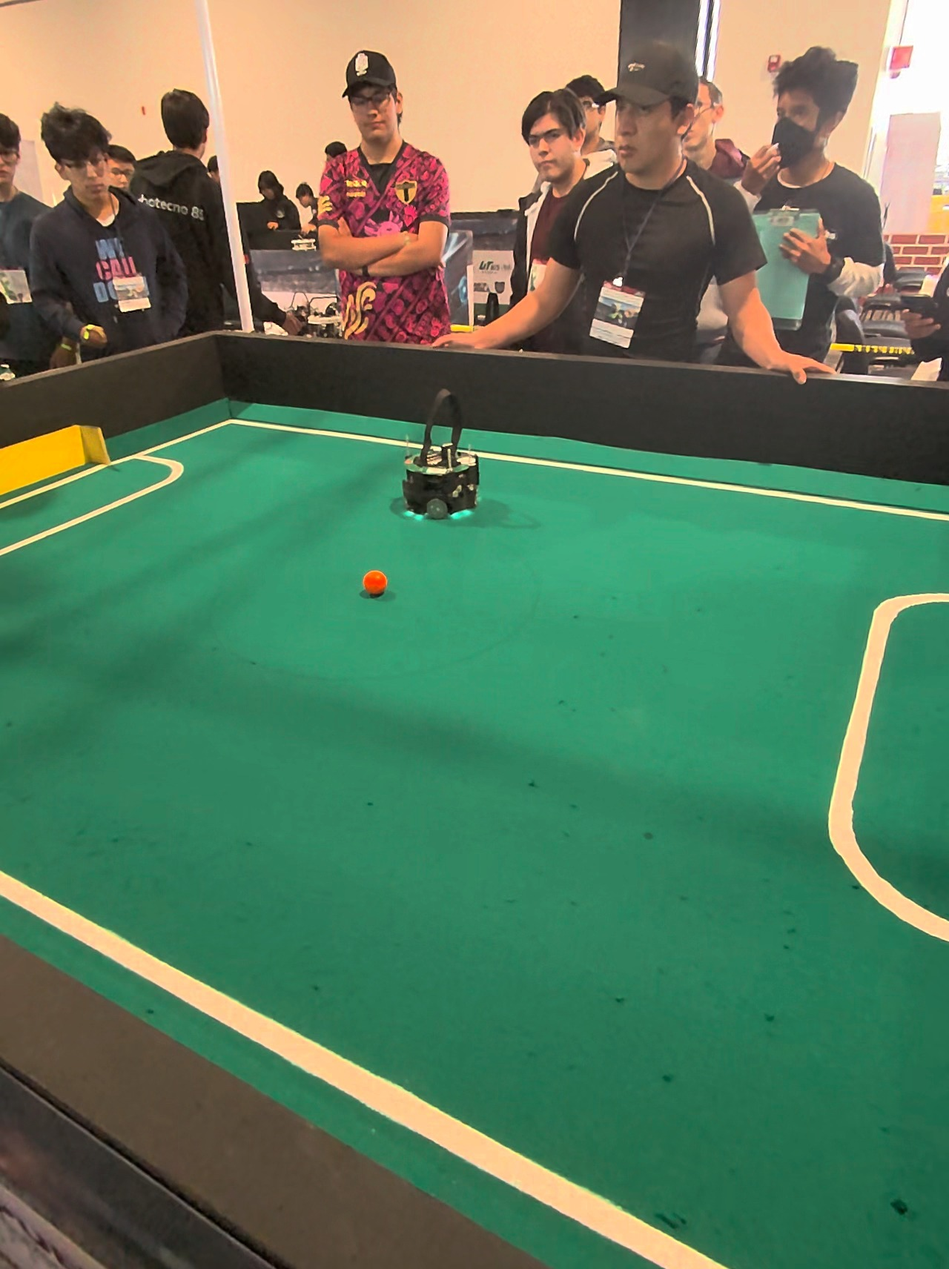Robot: (394, 384, 482, 530)
pelota: (363, 569, 389, 596)
